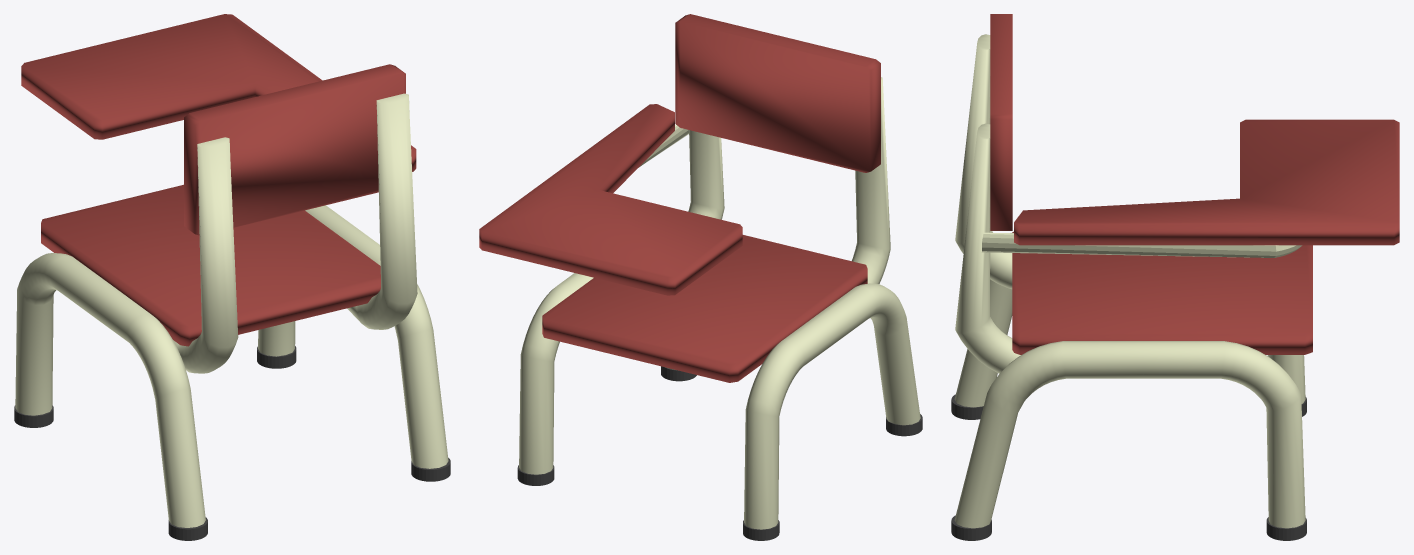
The model's file is Pupitre.glb.
The picture shows the model from 3 angles, left to right: view 1: azimuth 30°, elevation 25°; view 2: azimuth 150°, elevation 25°; view 3: azimuth 270°, elevation 25°; orthographic projection. The views are drawn at different scales.
Visible parts, largest first — view 1: Cilindro.002; view 2: Cilindro.002; view 3: Cilindro.002.
Boxes of the visible parts, x1,y1,x2,y2 form: Cilindro.002: (14, 14, 450, 540); Cilindro.002: (479, 14, 922, 540); Cilindro.002: (951, 14, 1399, 540).
Size of the model in its own units: 4.3 by 5.93 by 5.9.
